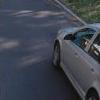Car: (44, 17, 100, 100)
